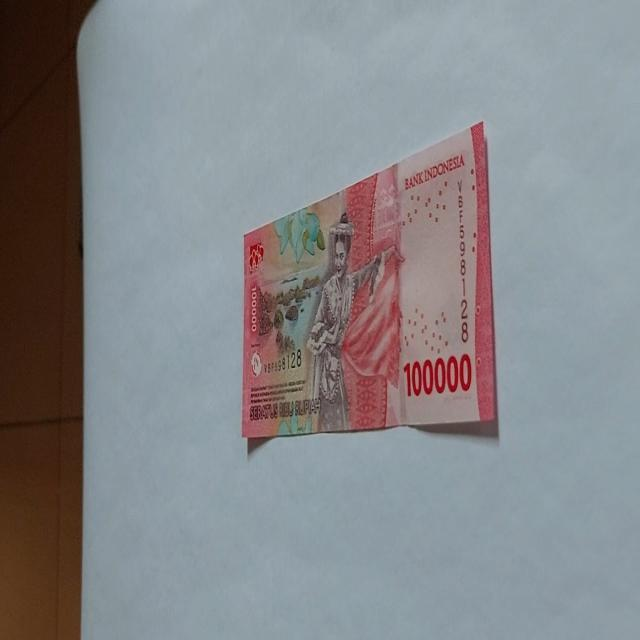seratus ribu rupiah: (240, 119, 498, 444), (306, 211, 398, 432)
